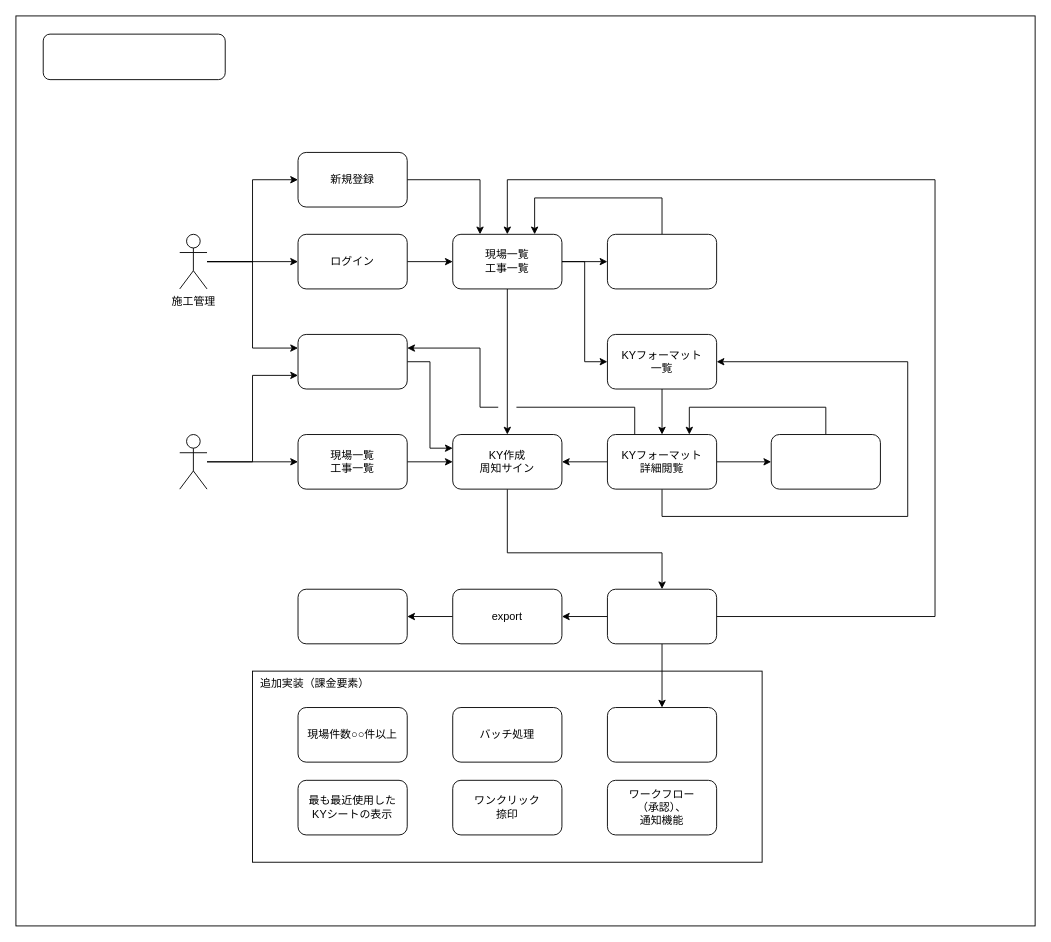
Some shapes in this 1051 by 942 pixel diagram are drawn without their labels. The centre of each missing label's shape, as x and y in pixels:
KYシート作成アプリ ユースケース図: the point at 133,56
リスク項目 安全対策項目 編集・削除: the point at 825,461
リスク項目 安全対策項目他 入力: the point at 662,261
一括ダウンロード Excel他出力: the point at 662,734
作成済み KY一覧: the point at 662,616
各KY用 QRコード: the point at 352,361
各クライアント にて保存: the point at 352,616
職人: the point at 193,461
